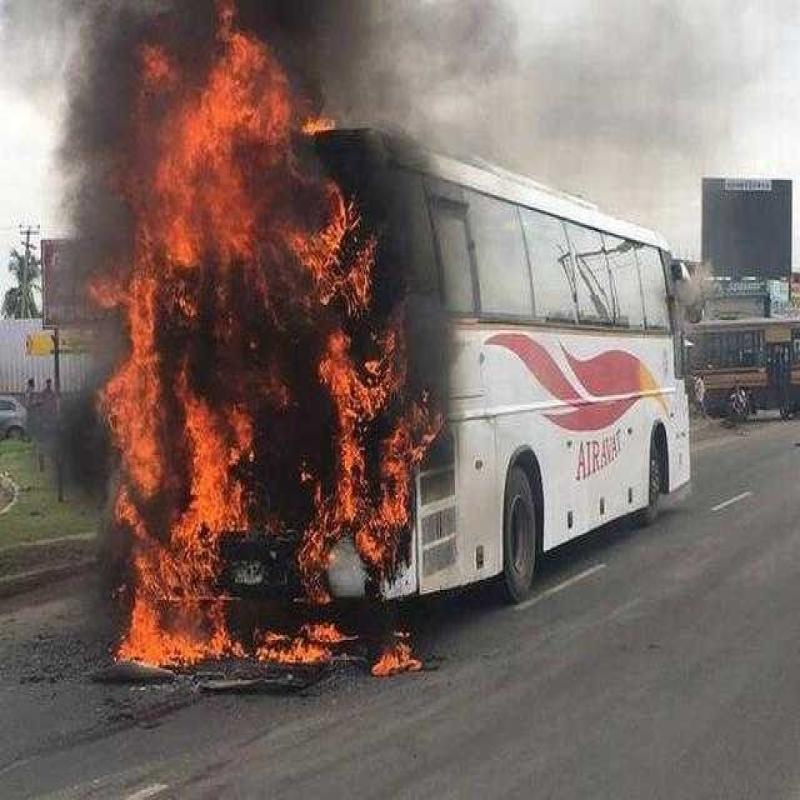bus: (226, 110, 694, 606)
